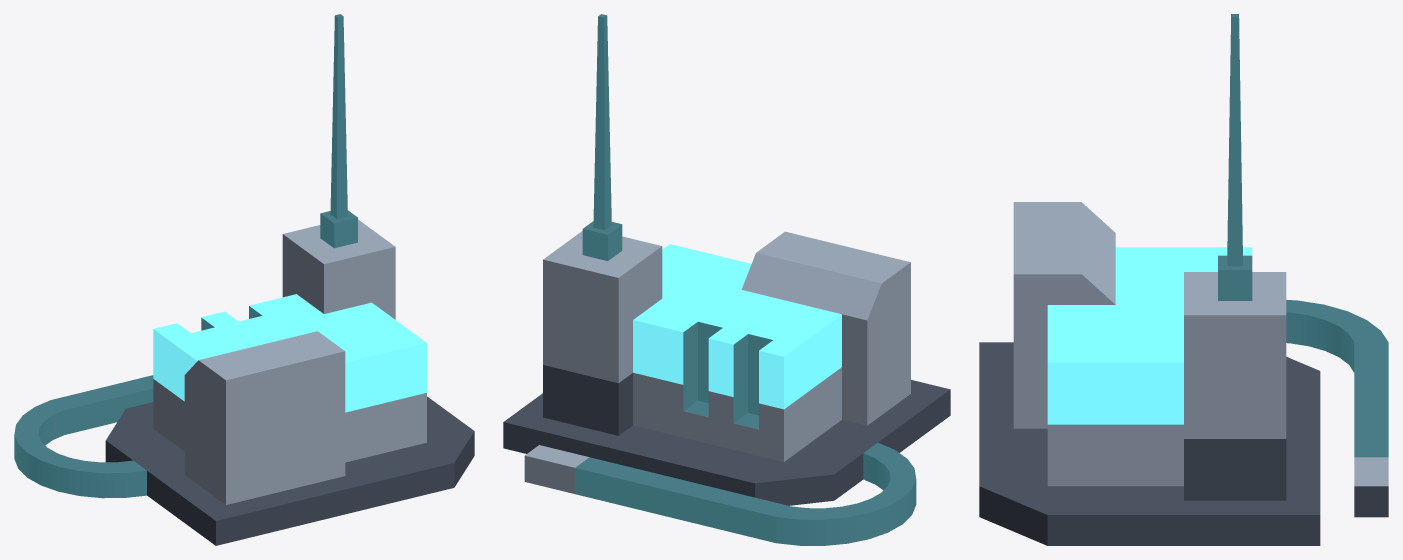
File: machine_wirelessCable.glb
The picture shows the model from 3 angles, left to right: view 1: azimuth 30°, elevation 25°; view 2: azimuth 150°, elevation 25°; view 3: azimuth 270°, elevation 25°; orthographic projection. The views are drawn at different scales.
Visible parts, largest first — view 1: machine_wirelessCable, cable; view 2: machine_wirelessCable, cable; view 3: machine_wirelessCable, cable.
Part boxes in pixels (x1,y1,x2,y2): machine_wirelessCable: (105,14,474,545); cable: (14,375,153,498); machine_wirelessCable: (503,14,950,505); cable: (524,442,916,545); machine_wirelessCable: (979,14,1320,545); cable: (1286,300,1388,517).
Size of the model in its own units: 0.75 by 0.8 by 0.6.
